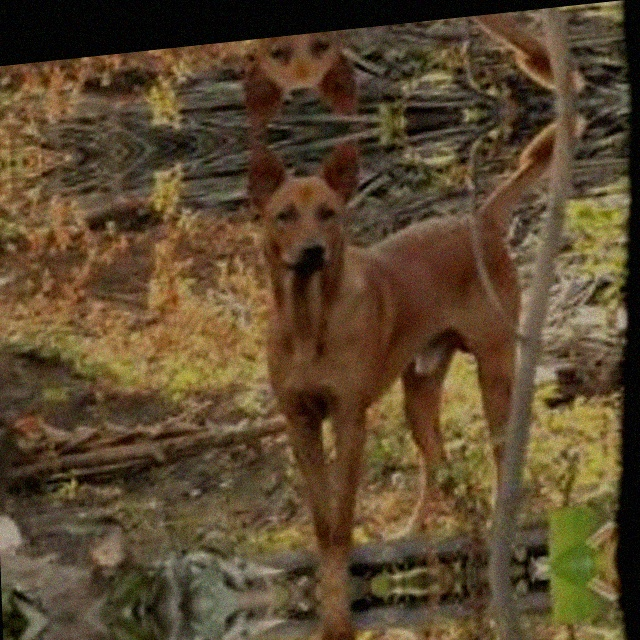dog: (216, 111, 592, 588), (213, 5, 576, 133), (233, 575, 596, 640)
